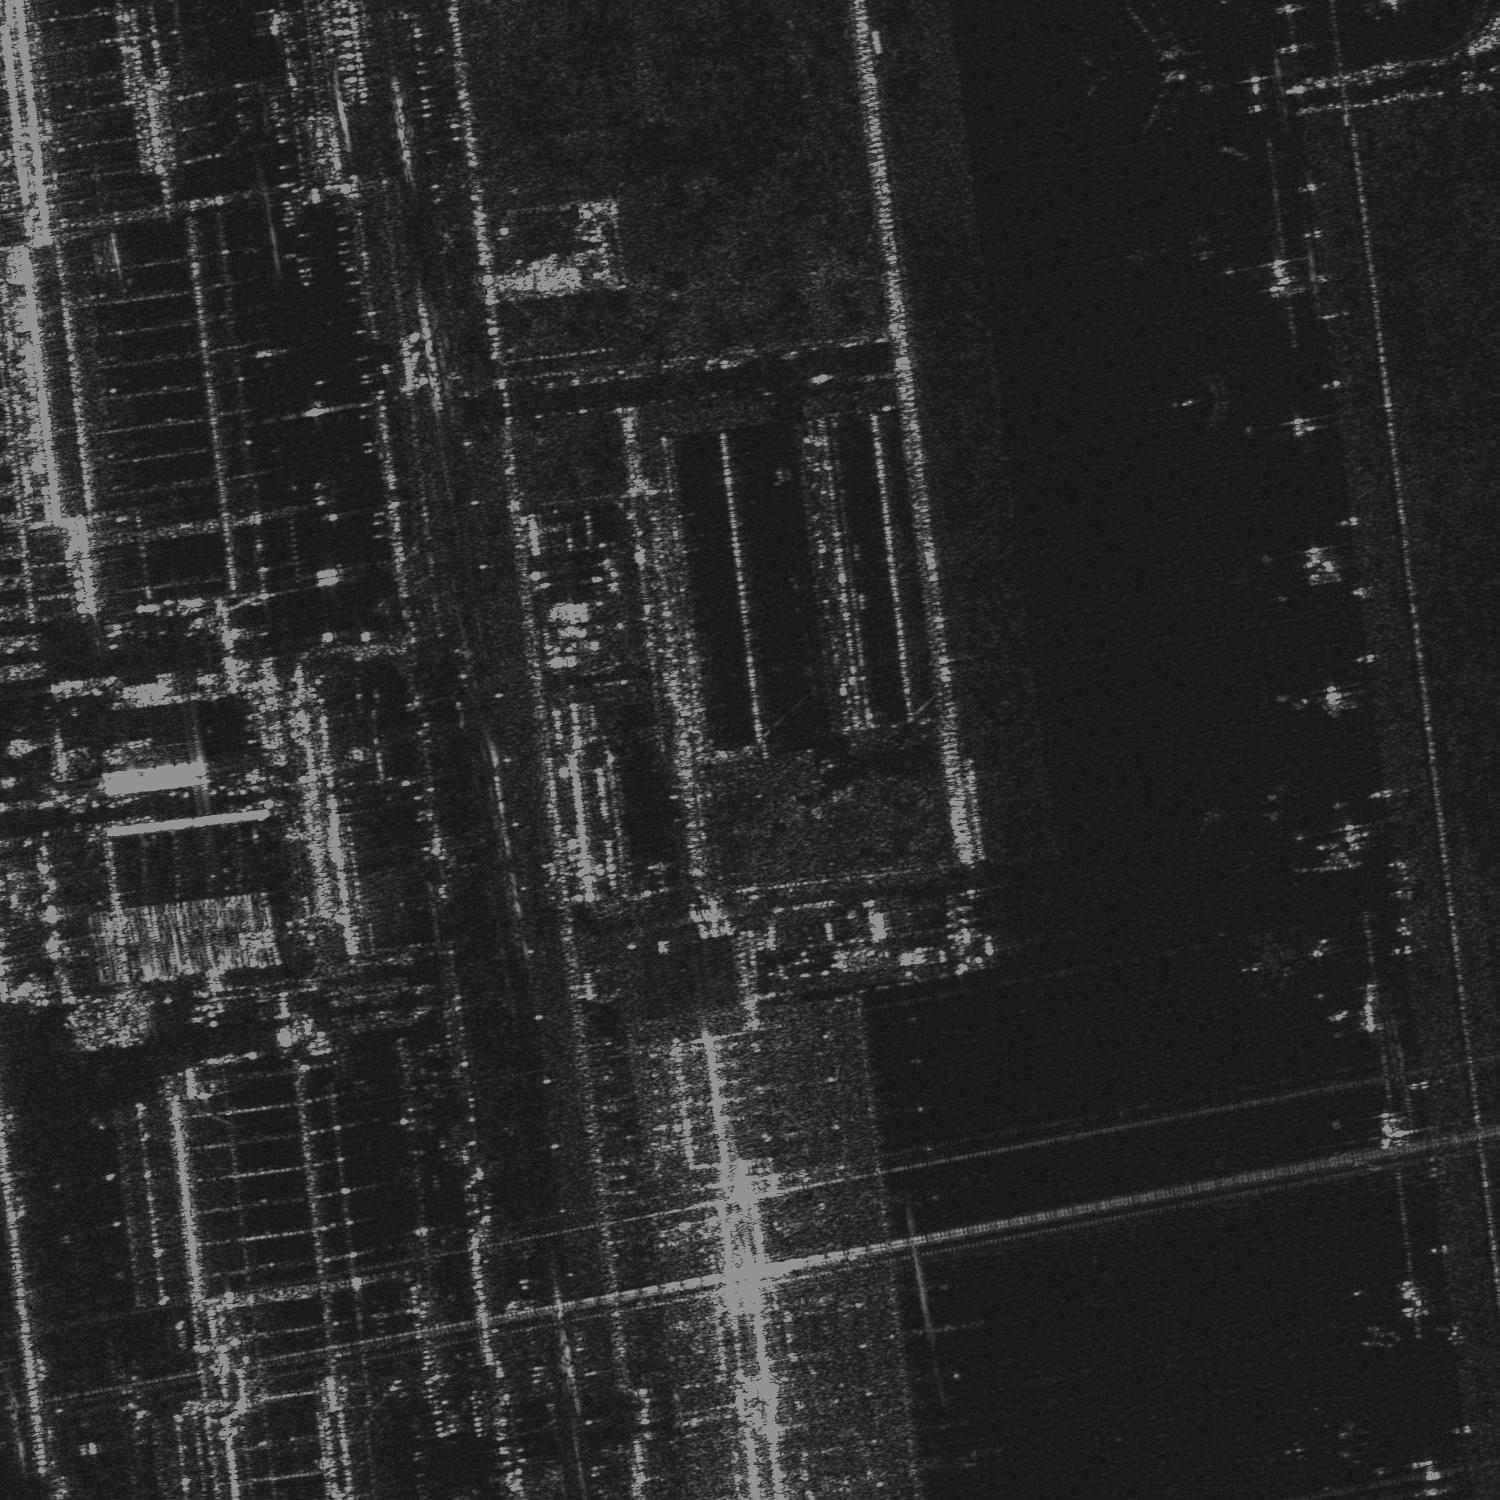A220: (1232, 927, 1319, 1001)
Boeing787: (1257, 1389, 1385, 1499), (1168, 364, 1250, 430)
